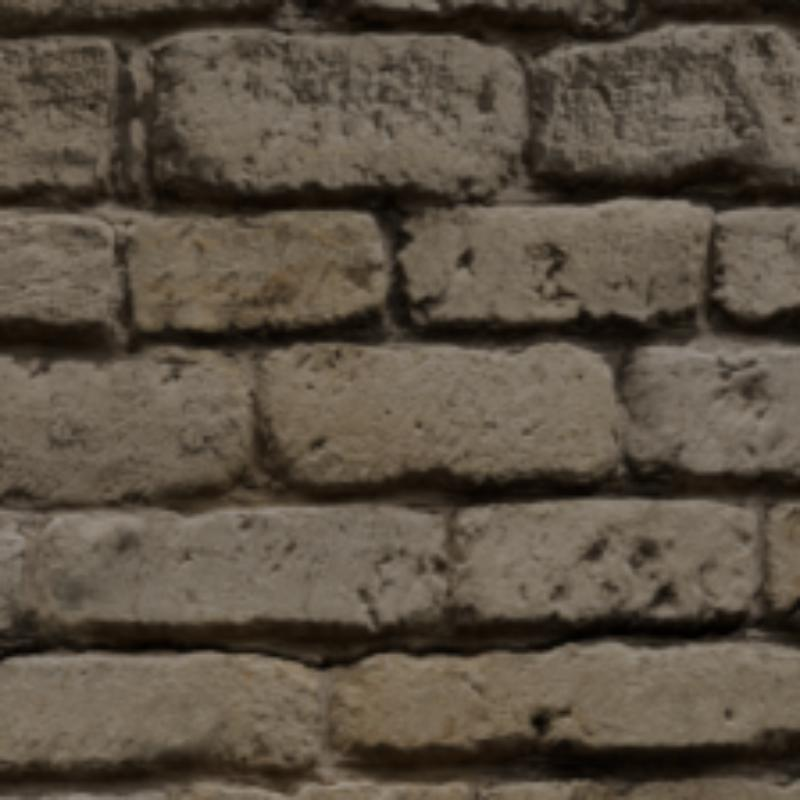crack: (0, 596, 796, 668)
